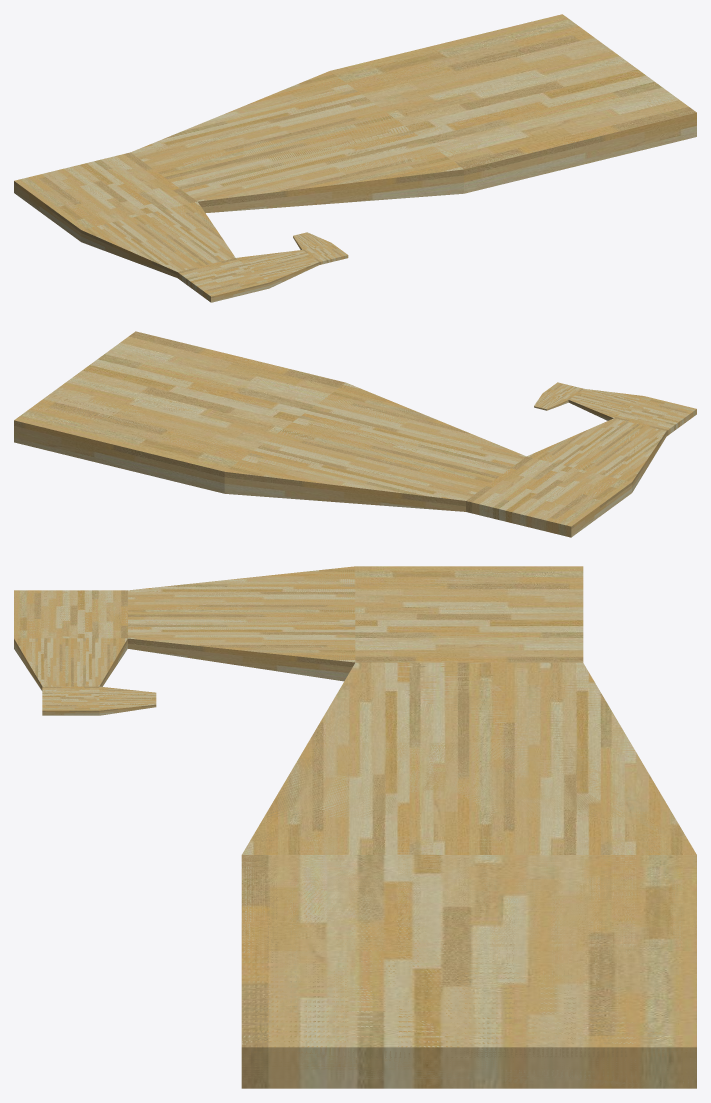
Rendered from SpiralFlat.dae.
3 views of the same model, one above another, from view 1: azimuth 30°, elevation 25°; view 2: azimuth 150°, elevation 25°; view 3: azimuth 270°, elevation 25° (orthographic). The views are drawn at different scales.
Parts seen in each view (by area): view 1: instance_0, instance_1, instance_2, instance_3, instance_5, instance_4, instance_7; view 2: instance_0, instance_1, instance_2, instance_3, instance_5, instance_4, instance_7, instance_6; view 3: instance_0, instance_1, instance_2, instance_3, instance_5, instance_4, instance_7, instance_6.
Boxes of the visible parts, box(x1,y1,x2,y2) form: instance_0: box(330, 14, 696, 193); instance_1: box(131, 71, 463, 213); instance_2: box(14, 152, 196, 241); instance_3: box(81, 201, 235, 277); instance_5: box(177, 258, 269, 302); instance_4: box(236, 250, 319, 288); instance_7: box(303, 243, 348, 264); instance_0: box(14, 331, 345, 493); instance_1: box(224, 383, 526, 511); instance_2: box(466, 456, 631, 537); instance_3: box(527, 418, 666, 492); instance_5: box(614, 396, 696, 436); instance_4: box(568, 388, 643, 420); instance_7: box(543, 382, 583, 399); instance_6: box(534, 393, 568, 410); instance_0: box(241, 855, 696, 1088); instance_1: box(242, 662, 696, 854); instance_2: box(355, 566, 583, 662); instance_3: box(128, 566, 355, 681); instance_5: box(14, 590, 127, 638); instance_4: box(14, 638, 127, 690); instance_7: box(42, 686, 99, 715); instance_6: box(99, 686, 156, 715).
Bounding box in the file's own units: 98.43 × 59.06 × 3.94.
2 materials, 2 textured.
